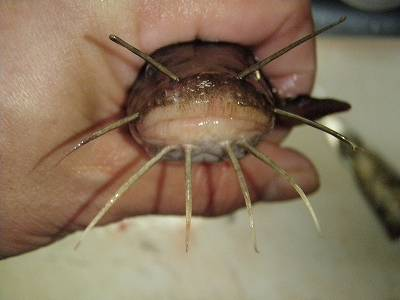gonzui: (78, 32, 337, 239)
